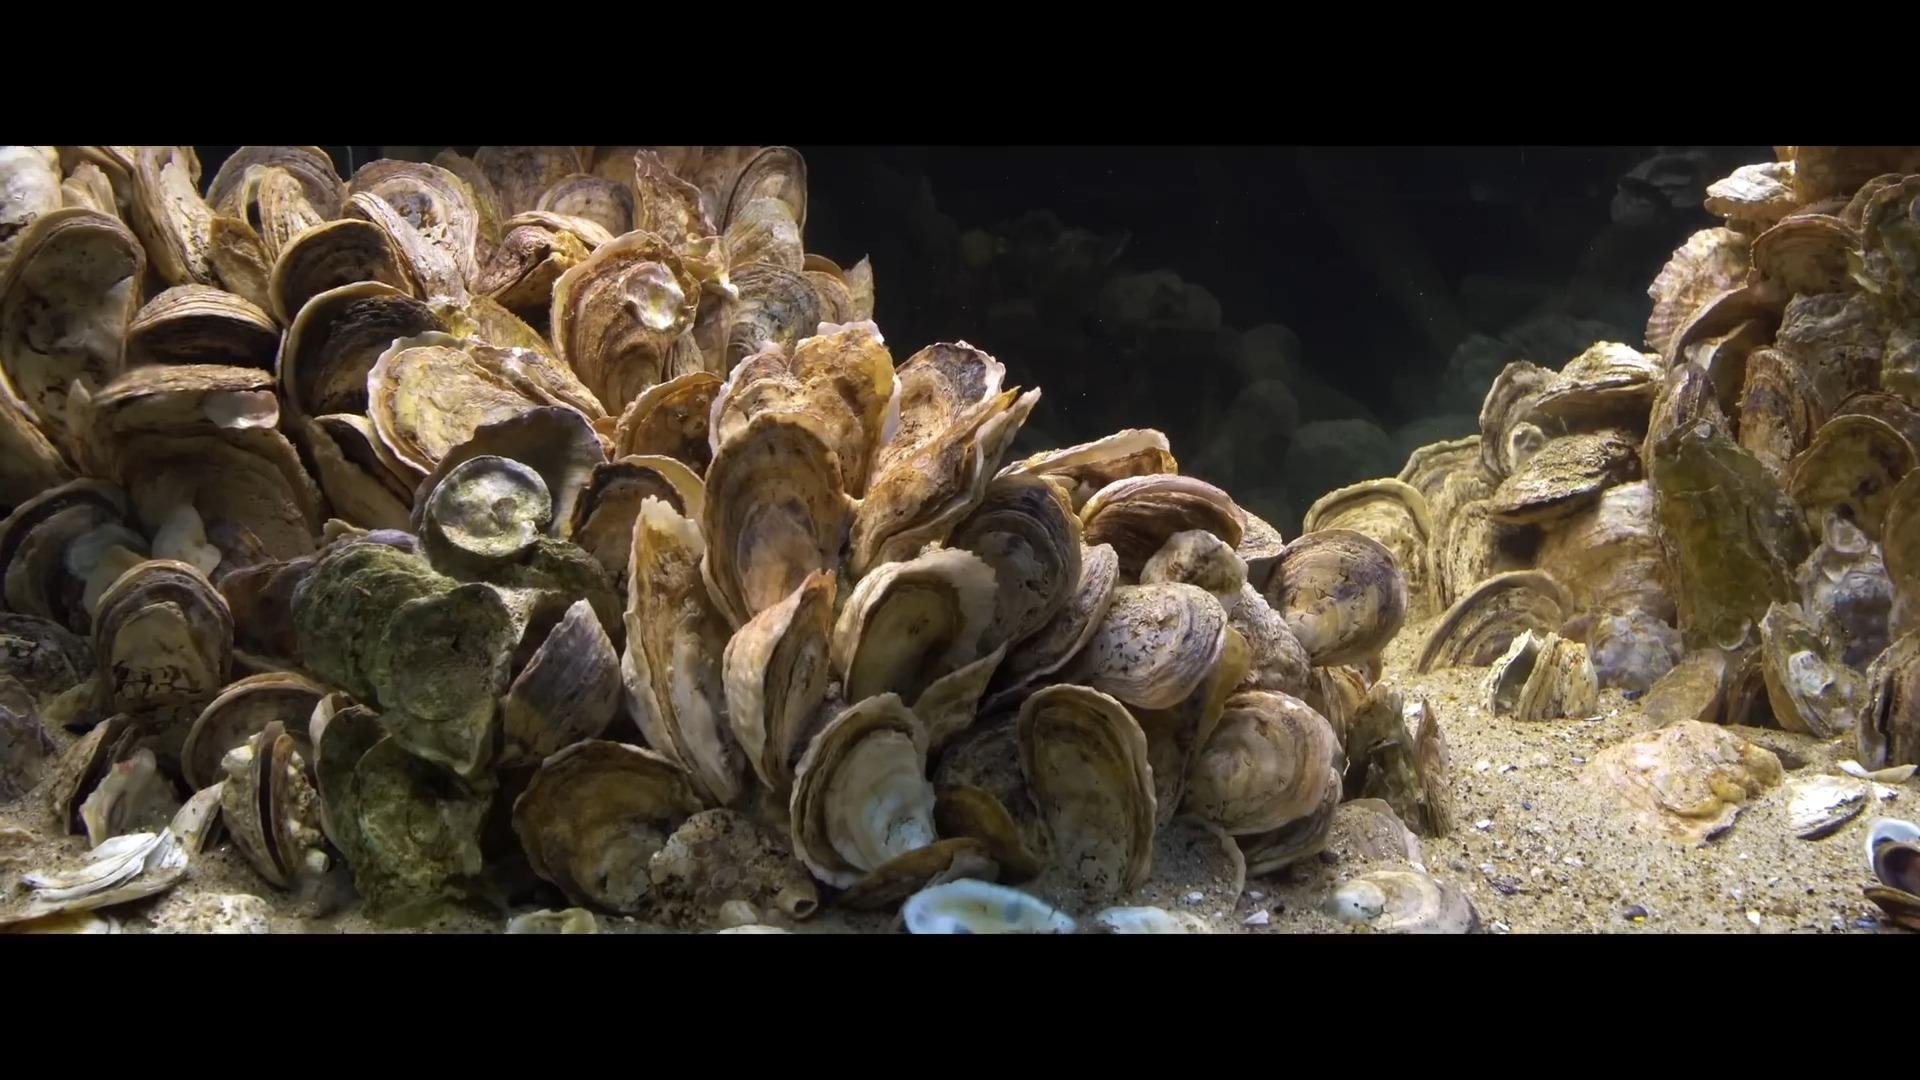Oyster: (840, 339, 1030, 582), (618, 501, 742, 811), (509, 738, 712, 920), (0, 207, 146, 448), (700, 405, 853, 630), (111, 427, 326, 580), (551, 231, 715, 425), (927, 480, 1075, 684), (1018, 684, 1156, 895), (789, 694, 936, 891), (414, 402, 607, 551), (829, 553, 984, 731), (280, 282, 448, 438), (723, 571, 836, 793), (1184, 688, 1332, 855), (78, 359, 291, 473), (90, 558, 235, 723), (368, 335, 521, 483), (496, 599, 625, 771), (1254, 529, 1404, 673), (1062, 583, 1226, 709), (339, 156, 485, 297), (181, 670, 332, 802), (1, 484, 135, 632), (203, 148, 334, 298), (268, 215, 429, 335), (1077, 471, 1245, 582), (564, 455, 695, 593), (779, 318, 899, 467), (215, 720, 318, 890), (1787, 407, 1920, 537), (115, 146, 225, 297), (120, 281, 285, 381), (298, 411, 418, 535), (485, 206, 617, 318), (1002, 425, 1171, 506), (42, 712, 144, 836), (831, 835, 994, 910), (717, 258, 825, 372), (932, 785, 1039, 885), (630, 146, 717, 262), (1746, 211, 1863, 297), (1317, 799, 1427, 886), (463, 144, 571, 229), (720, 145, 807, 249), (533, 171, 640, 247)
